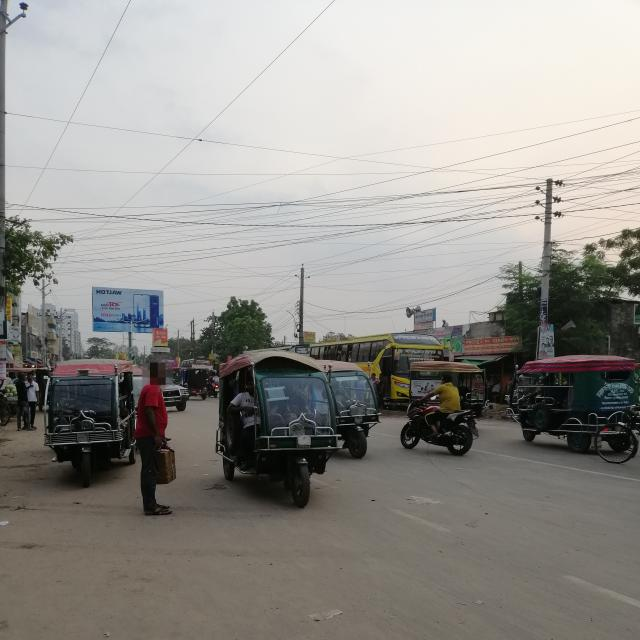Motorbike: (382, 393, 493, 458)
